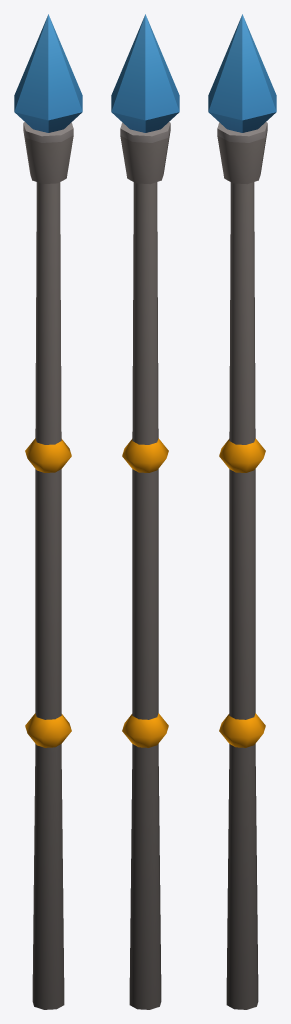
File: Staff2.fbx
3 renders of one model, left to right at view 1: azimuth 30°, elevation 25°; view 2: azimuth 150°, elevation 25°; view 3: azimuth 330°, elevation 25°, orthographic.
Parts seen in each view (by area): view 1: Staff2; view 2: Staff2; view 3: Staff2.
Part boxes in pixels (<box>): Staff2: <box>14,14,82,1009</box>; Staff2: <box>111,14,179,1009</box>; Staff2: <box>208,14,276,1009</box>.
Size of the model in its own units: 10.47 by 145 by 9.06.
